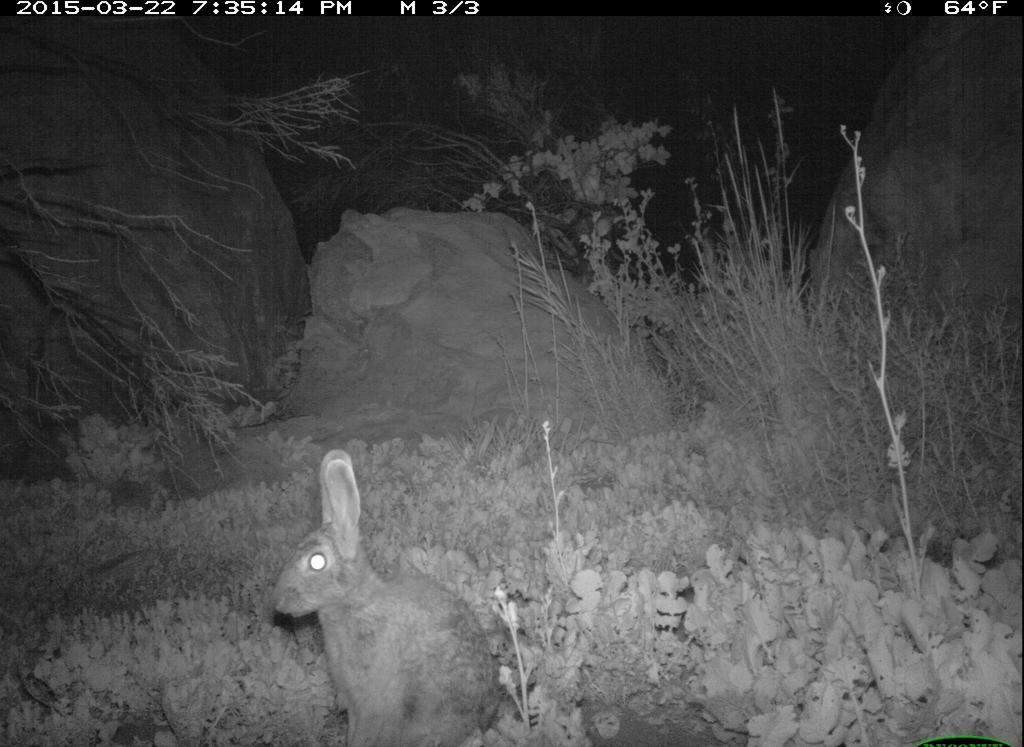rabbit: (253, 437, 510, 743)
